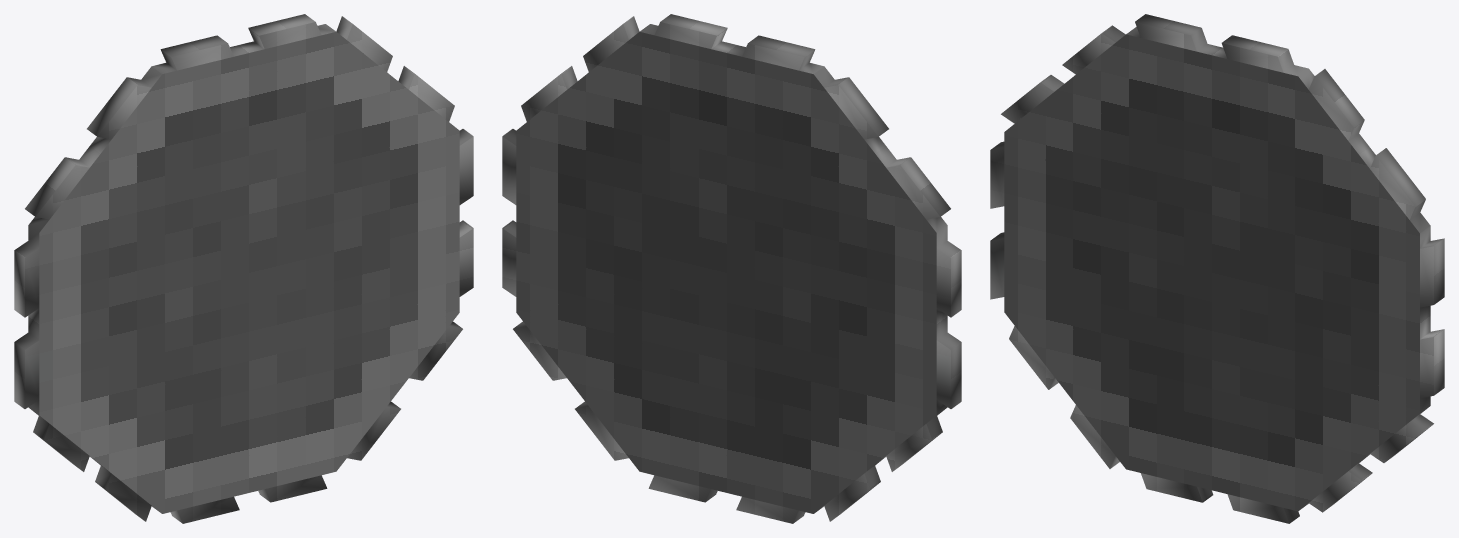
The model's file is sawmill_animated.obj.
3 renders of one model, left to right at view 1: azimuth 30°, elevation 25°; view 2: azimuth 150°, elevation 25°; view 3: azimuth 330°, elevation 25°, orthographic.
Visible parts, largest first — view 1: blade; view 2: blade; view 3: blade.
Boxes of the visible parts, bbox=[...] form: blade: bbox=[14, 14, 473, 523]; blade: bbox=[502, 14, 961, 523]; blade: bbox=[990, 14, 1444, 523].
Bounding box in the file's own units: 1.5 × 1.5 × 0.0625.
